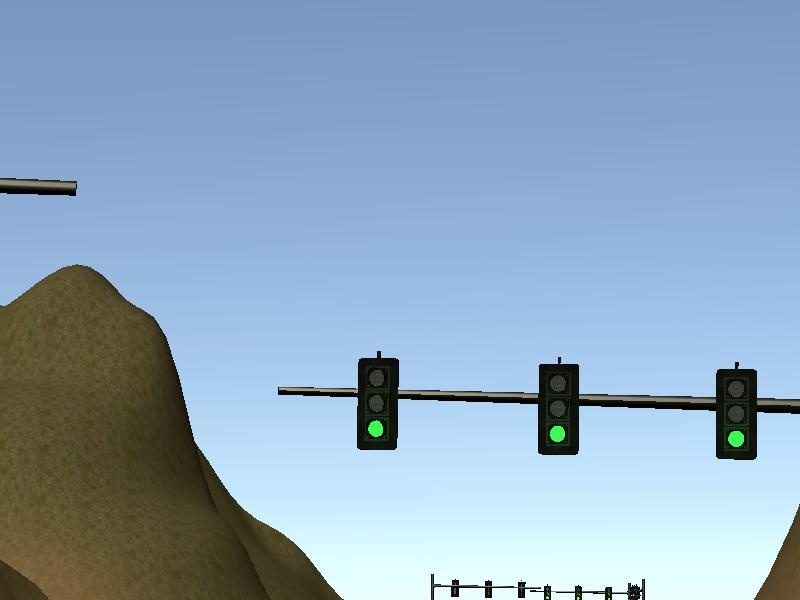green: (706, 368, 769, 465), (533, 361, 587, 461), (354, 352, 403, 455)
